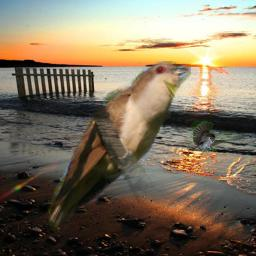Cuckoo: (42, 61, 191, 235)
Swallow: (187, 121, 245, 152)
